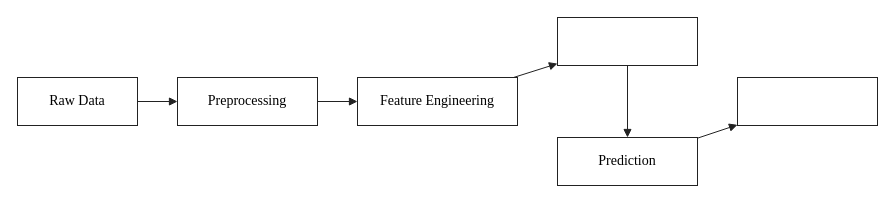
The diagram is 895 pixels wide and 203 high, and some of its shapes have lost their labels. The shapes that lost their labels are listed below. From the top down, each one's box as (x1, y1, x2, y2) in pixels, then its label:
(556, 16, 698, 66): Model Training
(736, 76, 878, 126): Interpretation
